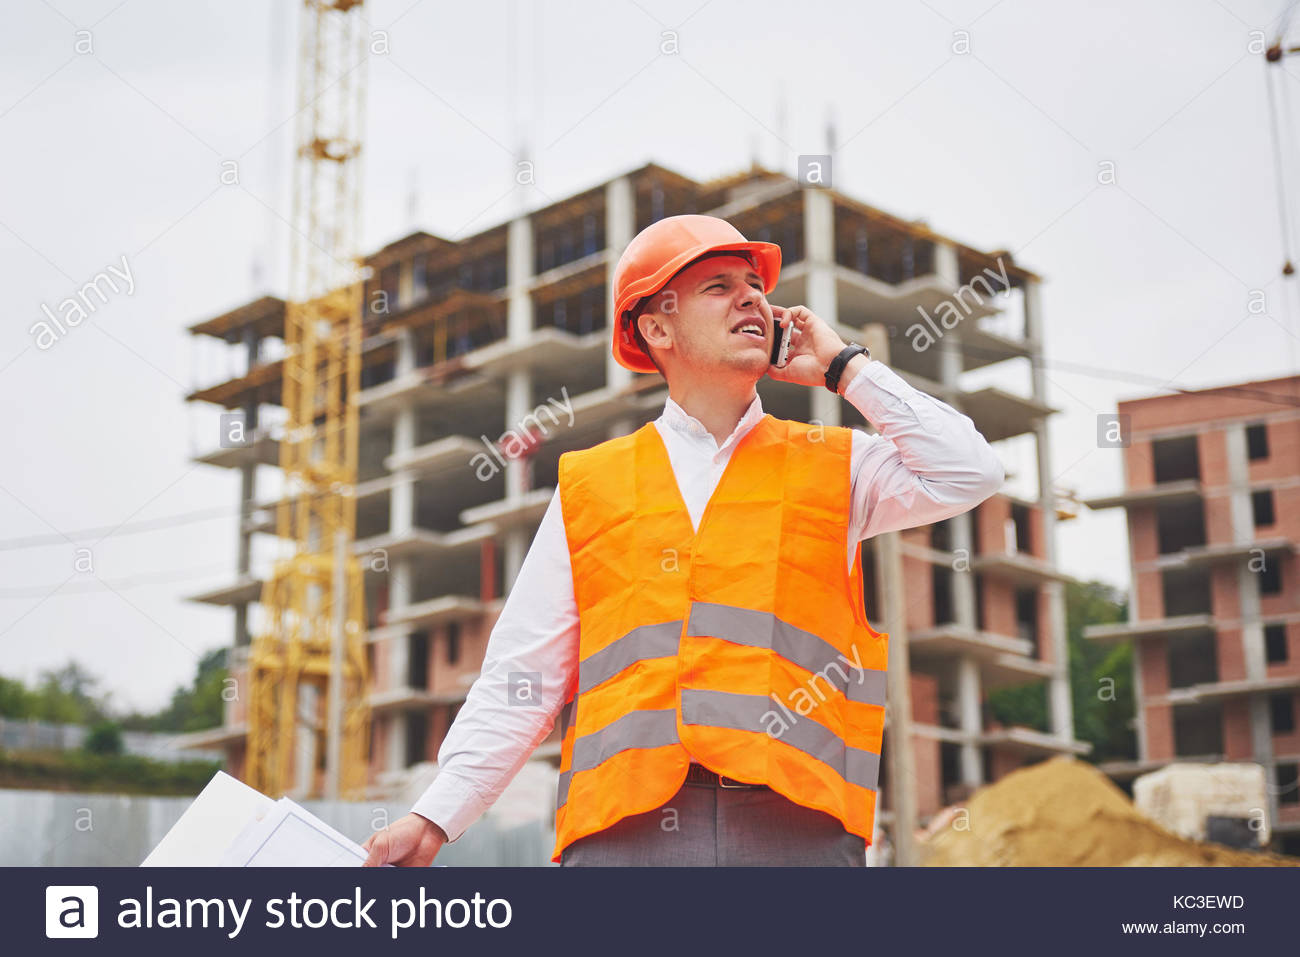casco: (611, 213, 783, 376)
